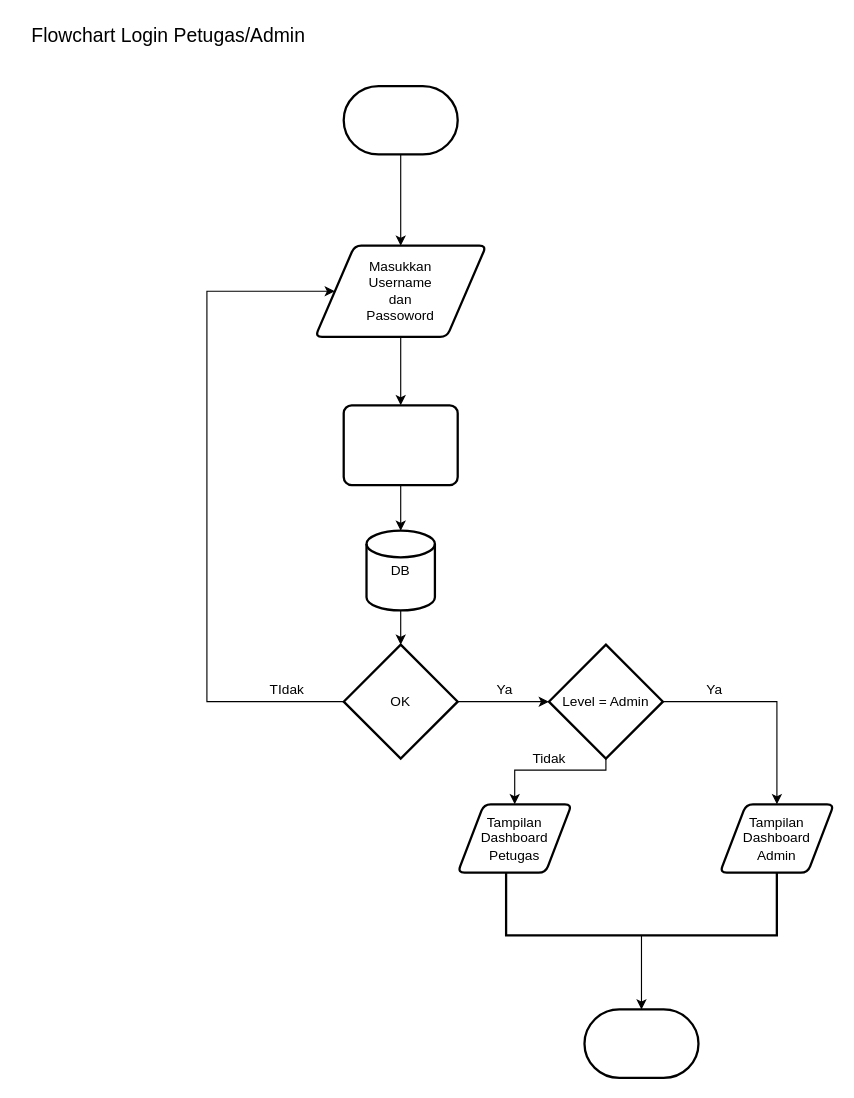
This 854x1098 diagram has some shape labels left out. Here are the shapes that lost their labels. From the top down, the centre of each, then its label:
the point at 400,119: Start
the point at 400,445: Cek
the point at 641,1043: End
